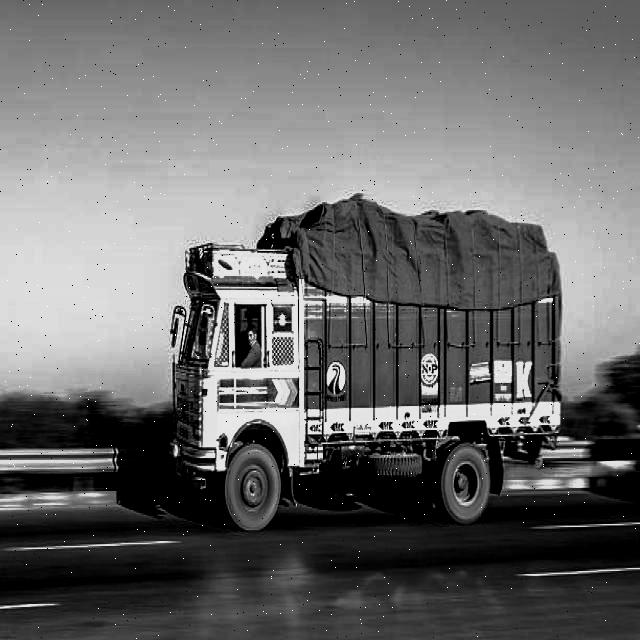HCV: (162, 154, 600, 527)
